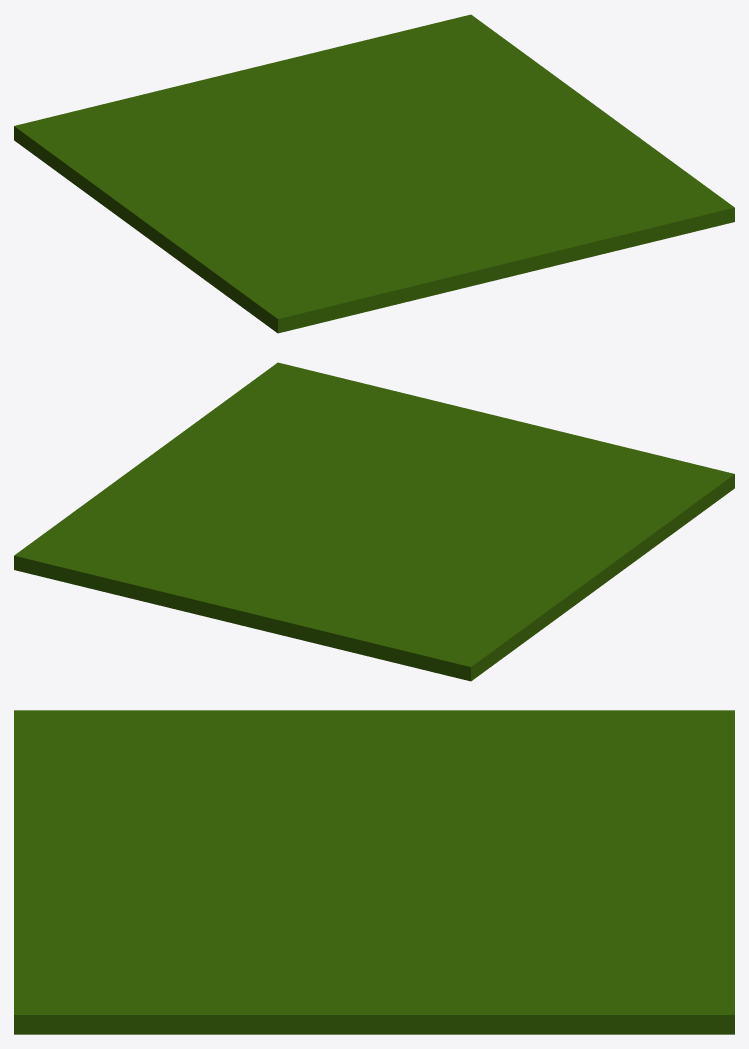
Rendered from tile1.fbx.
3 views of the same model, one above another, from view 1: azimuth 30°, elevation 25°; view 2: azimuth 150°, elevation 25°; view 3: azimuth 270°, elevation 25° (orthographic). The views are drawn at different scales.
Visible parts, largest first — view 1: Plane; view 2: Plane; view 3: Plane.
Part boxes in pixels (x1=…): Plane: x1=14, y1=14, x2=734, y2=333; Plane: x1=14, y1=362, x2=734, y2=681; Plane: x1=14, y1=710, x2=734, y2=1034.
Bounding box in the file's own units: 100 × 3 × 100.
